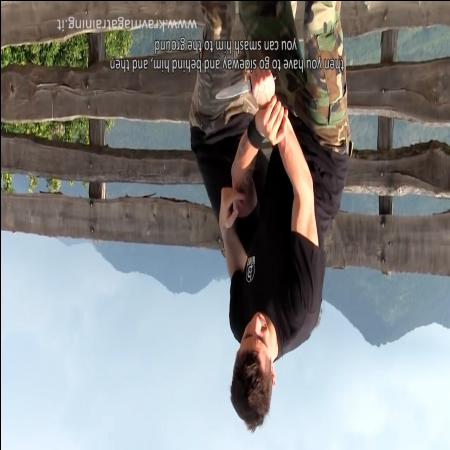long weapon: (209, 64, 277, 108)
